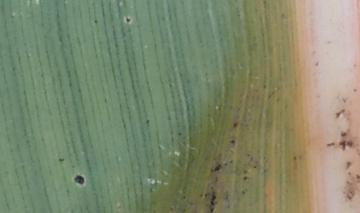tarspot: (73, 174, 85, 186), (335, 108, 346, 118), (124, 15, 133, 26), (344, 159, 352, 171), (338, 139, 346, 151), (339, 129, 348, 139), (210, 193, 216, 207), (346, 139, 354, 149), (340, 95, 348, 105), (57, 156, 66, 164), (231, 120, 239, 129), (213, 163, 221, 172), (10, 65, 18, 74), (325, 141, 335, 148), (241, 175, 249, 182), (175, 130, 183, 137), (313, 60, 320, 68), (261, 82, 267, 91), (92, 18, 99, 25), (208, 206, 215, 213), (325, 38, 332, 45), (144, 118, 152, 124), (354, 173, 360, 181), (102, 95, 108, 103), (228, 138, 235, 144), (352, 87, 359, 93), (221, 161, 228, 167), (245, 152, 252, 158), (240, 189, 247, 195), (181, 193, 187, 200), (198, 192, 204, 199), (168, 206, 174, 213), (291, 155, 297, 161), (203, 193, 209, 199), (208, 184, 214, 190), (252, 164, 257, 170)
